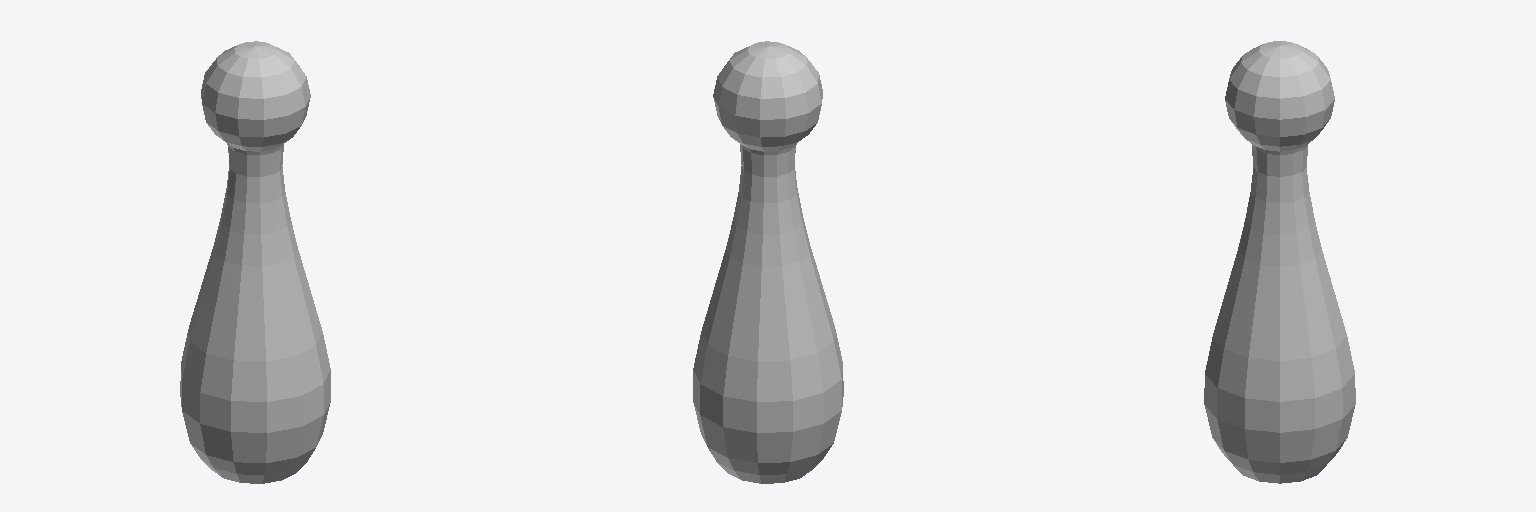
Rendered from Skittles.obj.
3 renders of one model, left to right at view 1: azimuth 30°, elevation 25°; view 2: azimuth 150°, elevation 25°; view 3: azimuth 270°, elevation 25°, orthographic.
Parts seen in each view (by area): view 1: Skittles_geo; view 2: Skittles_geo; view 3: Skittles_geo.
Boxes of the visible parts, box(x1,y1,x2,y2) form: Skittles_geo: box(180, 41, 330, 483); Skittles_geo: box(693, 41, 843, 483); Skittles_geo: box(1204, 41, 1355, 483).
Size of the model in its own units: 7.48 by 23.04 by 7.54.